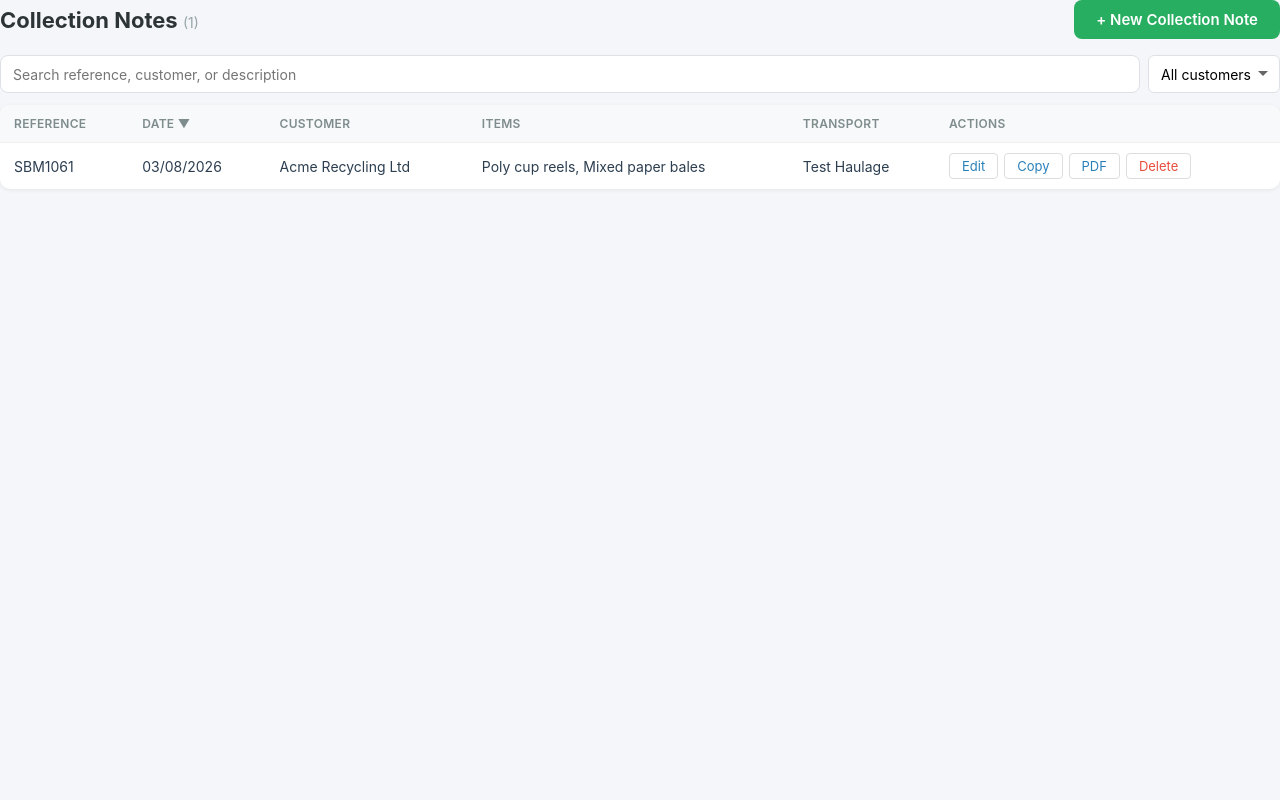
CollectionNotes list › asks for confirmation before deleting
Expected: the text "SBM1061" is shown, [0, 142, 128, 189]
Click the button "Delete" at (1159, 166), box [1126, 153, 1191, 179]
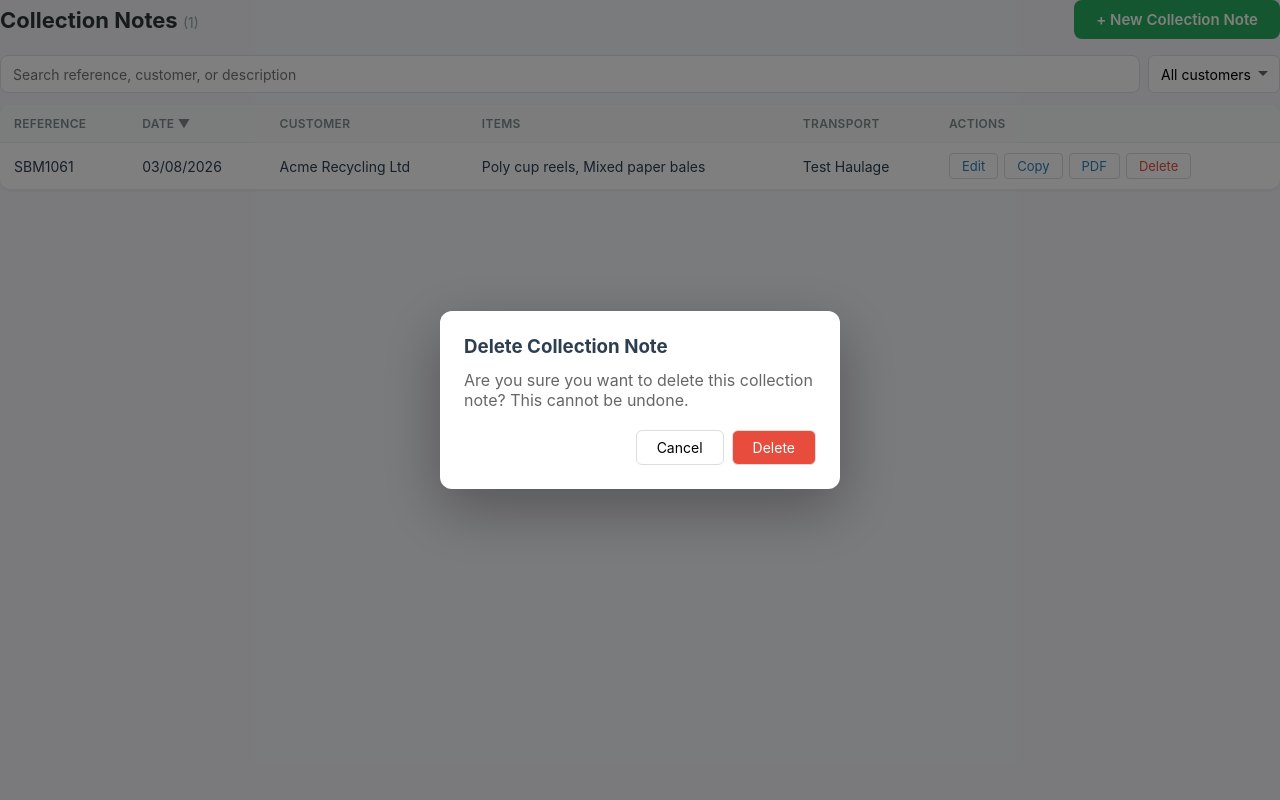
Now the text "Are you sure" is shown, box [464, 370, 813, 410]
